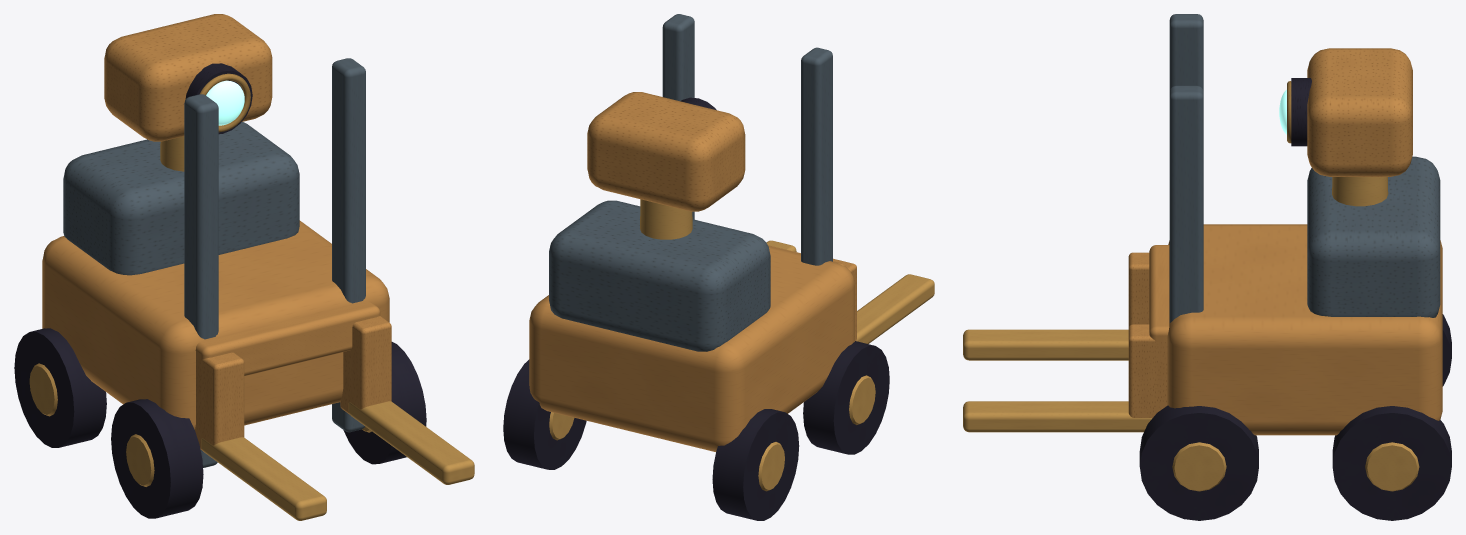
Rendered from prong.glb.
The picture shows the model from 3 angles, left to right: view 1: azimuth 30°, elevation 25°; view 2: azimuth 150°, elevation 25°; view 3: azimuth 270°, elevation 25°; orthographic projection. The views are drawn at different scales.
Visible parts, largest first — view 1: Cargo tug, Counterweight, Rubber wheel (×3), Mast rail (×2), Optics housing, Lifting tine (×2), Fork heel (×2), Lift carriage, Wheel hub (×2), Optical glass, Barrel, Neck piston (+1 smaller); view 2: Cargo tug, Counterweight, Rubber wheel (×3), Optics housing, Mast rail (×2), Lifting tine, Wheel hub (×3), Neck piston; view 3: Cargo tug, Rubber wheel (×3), Counterweight, Optics housing, Lifting tine (×2), Mast rail (×2), Fork heel (×2), Wheel hub (×2), Lift carriage, Neck piston, Barrel.
Part boxes in pixels (x1=…): Cargo tug: x1=42, y1=220, x2=389, y2=429; Counterweight: x1=63, y1=122, x2=299, y2=275; Rubber wheel (×3): x1=14, y1=328, x2=426, y2=518; Mast rail (×2): x1=184, y1=58, x2=365, y2=467; Optics housing: x1=104, y1=14, x2=272, y2=141; Lifting tine (×2): x1=201, y1=401, x2=474, y2=520; Fork heel (×2): x1=195, y1=316, x2=391, y2=450; Lift carriage: x1=195, y1=301, x2=380, y2=375; Wheel hub (×2): x1=29, y1=363, x2=154, y2=486; Optical glass: x1=206, y1=80, x2=244, y2=125; Barrel: x1=185, y1=63, x2=252, y2=134; Neck piston: x1=160, y1=136, x2=184, y2=171; Cargo tug: x1=529, y1=246, x2=854, y2=451; Counterweight: x1=549, y1=200, x2=770, y2=351; Rubber wheel (×3): x1=503, y1=341, x2=889, y2=520; Optics housing: x1=587, y1=92, x2=745, y2=211; Mast rail (×2): x1=662, y1=14, x2=832, y2=265; Lifting tine: x1=856, y1=274, x2=934, y2=343; Wheel hub (×3): x1=549, y1=375, x2=875, y2=491; Neck piston: x1=640, y1=199, x2=692, y2=239; Cargo tug: x1=1167, y1=224, x2=1442, y2=435; Rubber wheel (×3): x1=1139, y1=314, x2=1451, y2=520; Counterweight: x1=1307, y1=156, x2=1440, y2=317; Optics housing: x1=1307, y1=48, x2=1412, y2=176; Lifting tine (×2): x1=963, y1=329, x2=1152, y2=432; Mast rail (×2): x1=1169, y1=14, x2=1203, y2=322; Fork heel (×2): x1=1128, y1=252, x2=1167, y2=417; Wheel hub (×2): x1=1172, y1=442, x2=1419, y2=491; Lift carriage: x1=1149, y1=245, x2=1169, y2=360; Neck piston: x1=1332, y1=177, x2=1388, y2=206; Barrel: x1=1291, y1=78, x2=1311, y2=146.
Size of the model in its own units: 0.6535 by 0.975 by 1.06.
9 materials, 8 textured.
